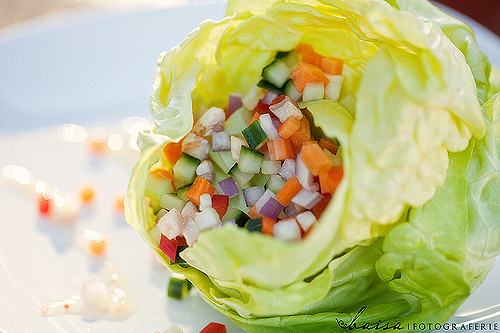chopped lettuce: (136, 1, 500, 322)
